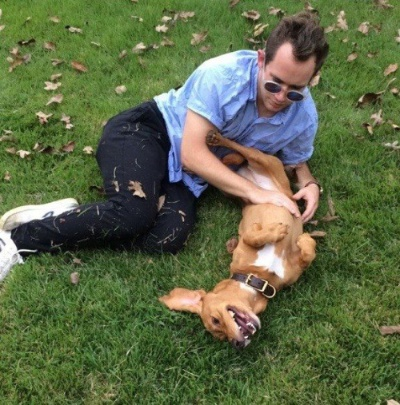daisy: (159, 275, 273, 351)
